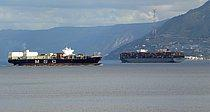Ship: (7, 46, 108, 71)
